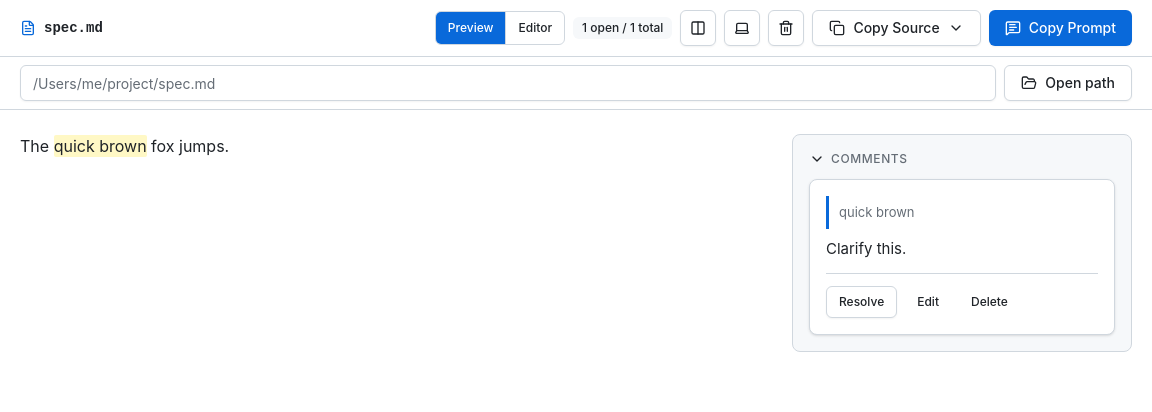
Test: App edit comment › clicking Edit replaces comment body with a textarea pre-filled with the current text
This screenshot has width=1152, height=412.
Check: the text "Clarify this." is shown, box [826, 239, 906, 258]
Click the button "Edit" at (928, 302), box [905, 286, 951, 318]
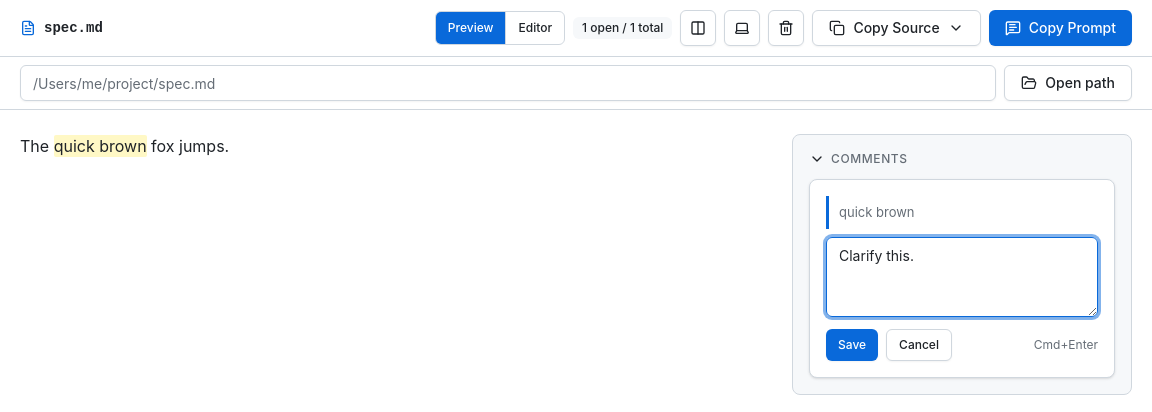
Check: the text box showing "Clarify this." is shown, box [826, 237, 1098, 317]
Check: the text with class "rmd-body" is gone
